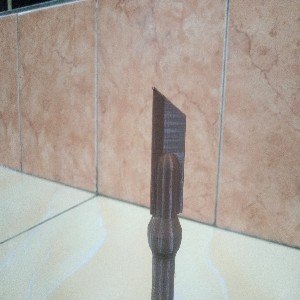cutter: (146, 84, 188, 300)
